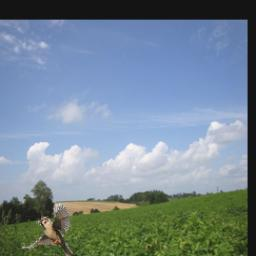Sparrow: (22, 203, 74, 256)
